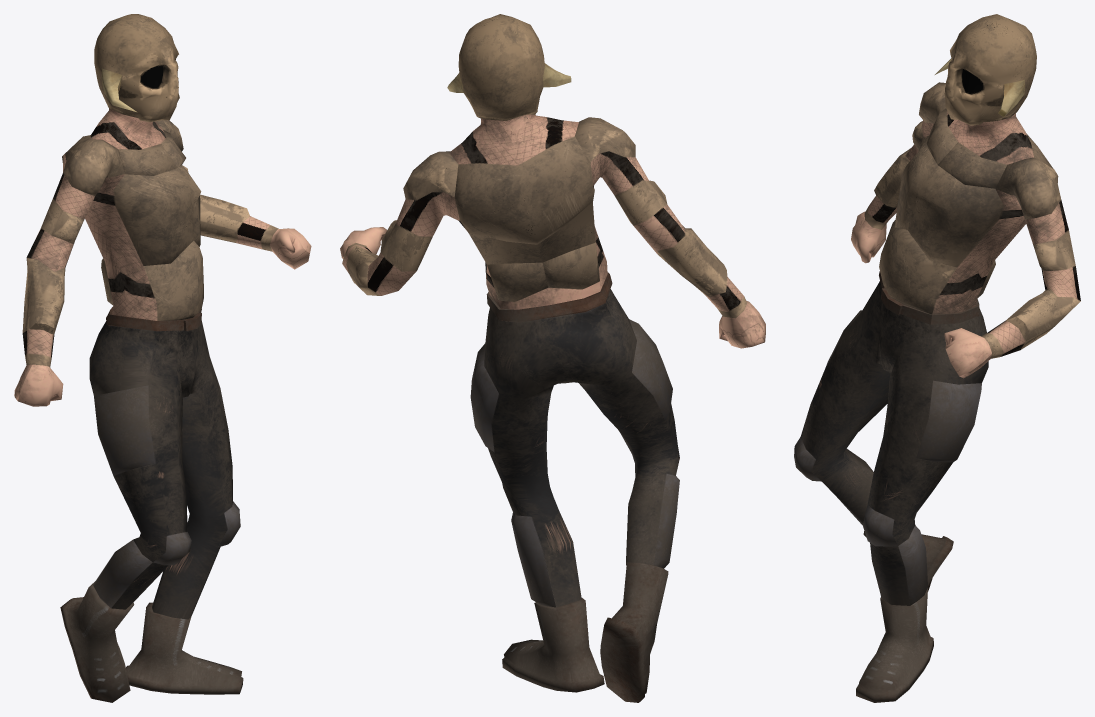
Rendered from Anim_ataque_f2_npc1.0014.obj.
3 renders of one model, left to right at view 1: azimuth 30°, elevation 25°; view 2: azimuth 150°, elevation 25°; view 3: azimuth 270°, elevation 25°, orthographic. The views are drawn at different scales.
Visible parts, largest first — view 1: NPC2; view 2: NPC2; view 3: NPC2.
Part boxes in pixels (<box>): NPC2: <box>14,14,311,702</box>; NPC2: <box>340,14,765,702</box>; NPC2: <box>794,14,1080,702</box>.
Bounding box in the file's own units: 5.2 × 9.35 × 3.69.
